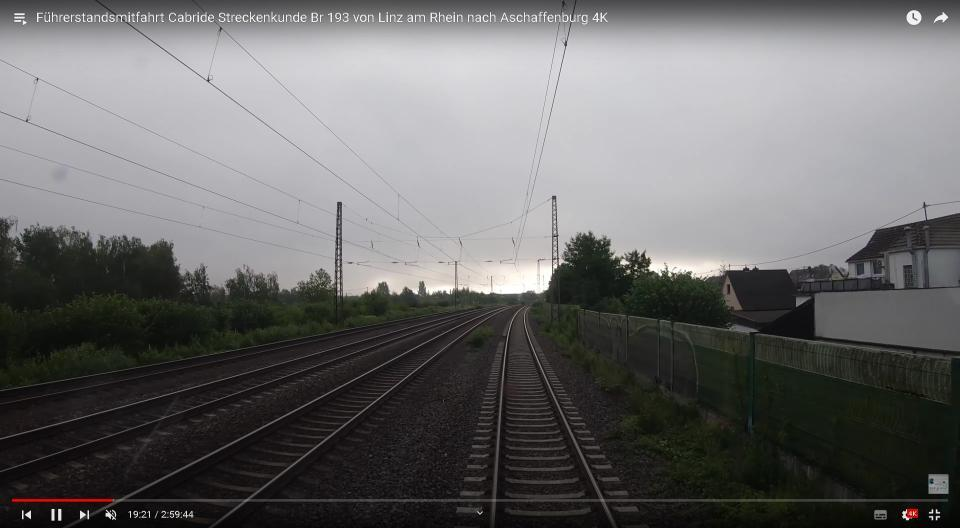Plant: (534, 308, 823, 499), (674, 503, 862, 528), (466, 327, 494, 348)
